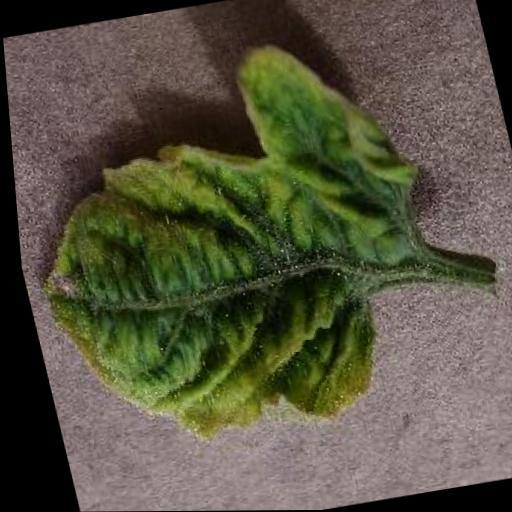Yellow Leaf Curl Virus: (2, 26, 470, 454)
